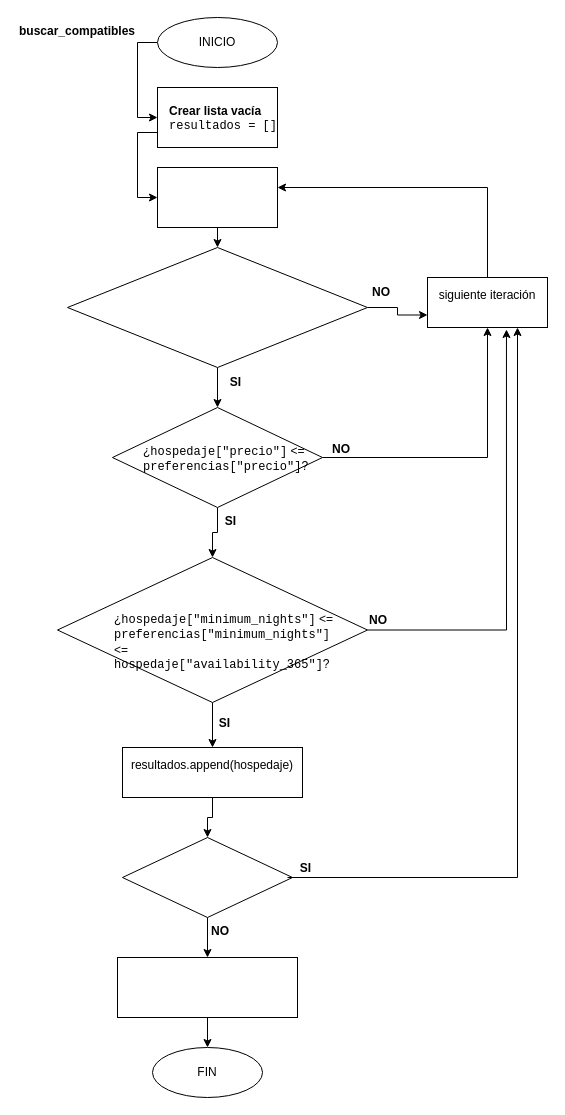
The diagram is 565 pixels wide and 1115 high, and some of its shapes have lost their labels. The shapes that lost their labels are listed below. From the top down, each one's centre as x and y in pixels, then its label:
pixel 217 197: Iterar sobre cada fila de df_barrio
pixel 217 307: ¿ hospedaje["room_type"] coincide con preferencias["room_type"] ?
pixel 207 877: ¿Quedan más filas en df_barrio ?
pixel 207 987: Retornar pd.DataFrame(resultados)
